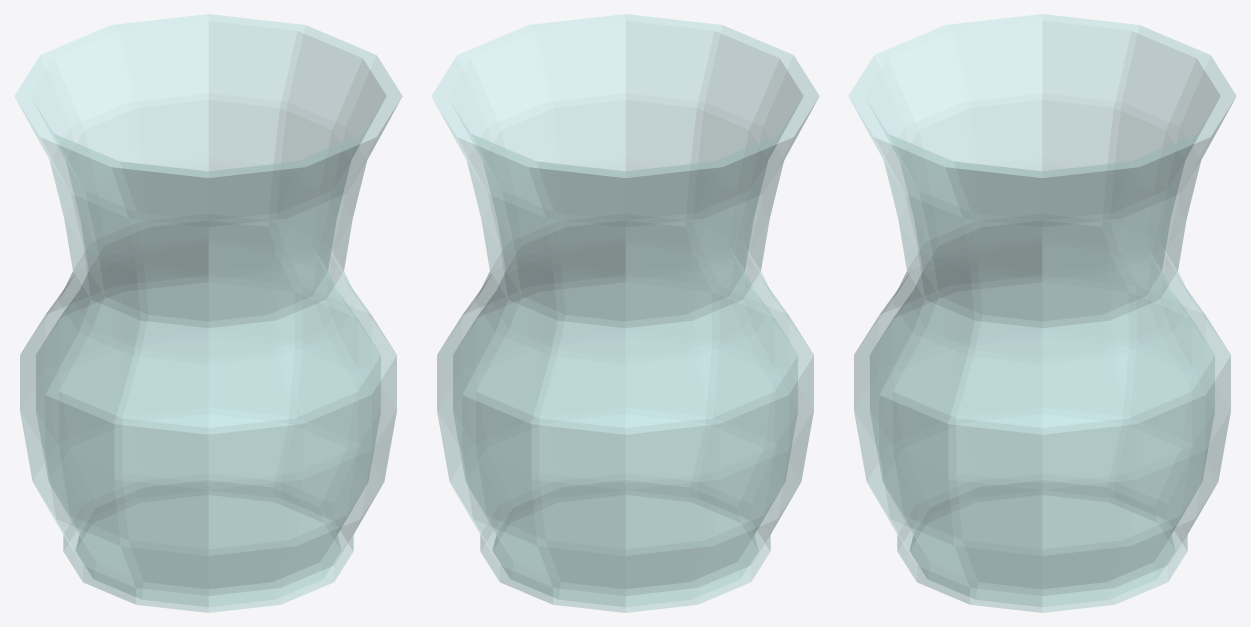
The model's file is ÇayBardağı.fbx.
The picture shows the model from 3 angles, left to right: view 1: azimuth 30°, elevation 25°; view 2: azimuth 150°, elevation 25°; view 3: azimuth 270°, elevation 25°; orthographic projection.
Visible parts, largest first — view 1: Cylinder.015; view 2: Cylinder.015; view 3: Cylinder.015.
Part boxes in pixels (bbox=[...]): Cylinder.015: bbox=[14, 14, 402, 612]; Cylinder.015: bbox=[431, 14, 819, 612]; Cylinder.015: bbox=[848, 14, 1236, 612].
Size of the model in its own units: 24.67 by 31.93 by 24.67.
